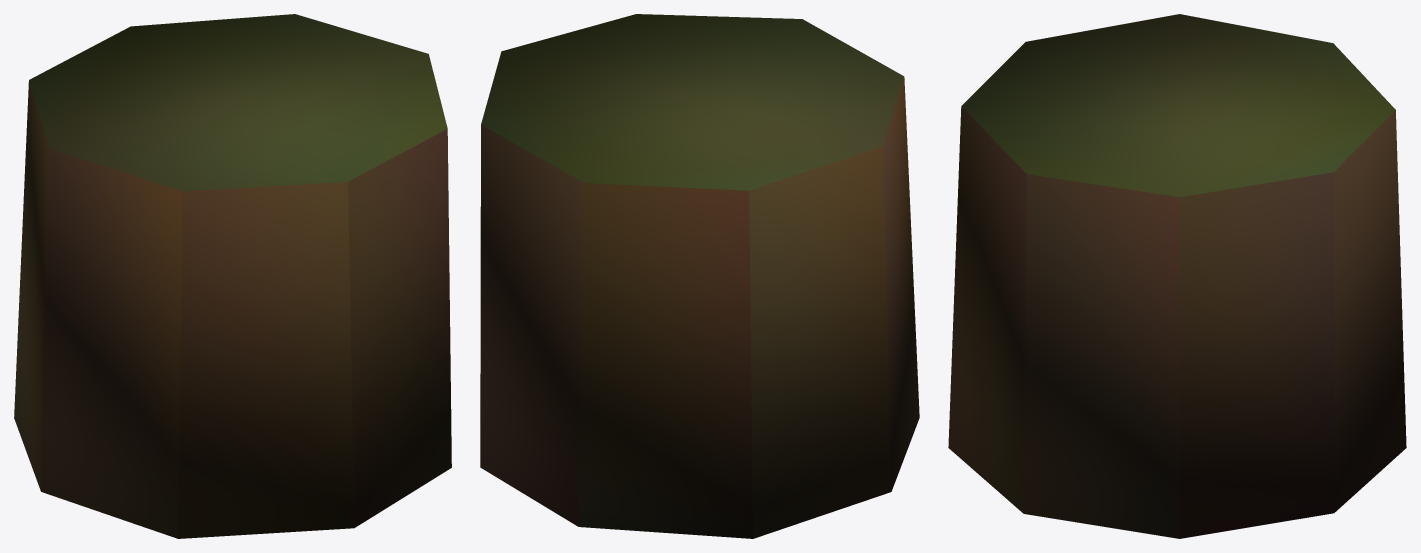
File: deadwood_bk_foret_broceliande_0001.glb
3 views of the same model, side by side, from view 1: azimuth 30°, elevation 25°; view 2: azimuth 150°, elevation 25°; view 3: azimuth 270°, elevation 25° (orthographic).
Visible parts, largest first — view 1: deadwood_bk_001; view 2: deadwood_bk_001; view 3: deadwood_bk_001.
Part boxes in pixels (x1,y1,x2,y2): deadwood_bk_001: [14, 14, 451, 538]; deadwood_bk_001: [480, 14, 919, 538]; deadwood_bk_001: [948, 14, 1406, 538].
Bounding box in the file's own units: 0.3068 × 0.2597 × 0.314.
